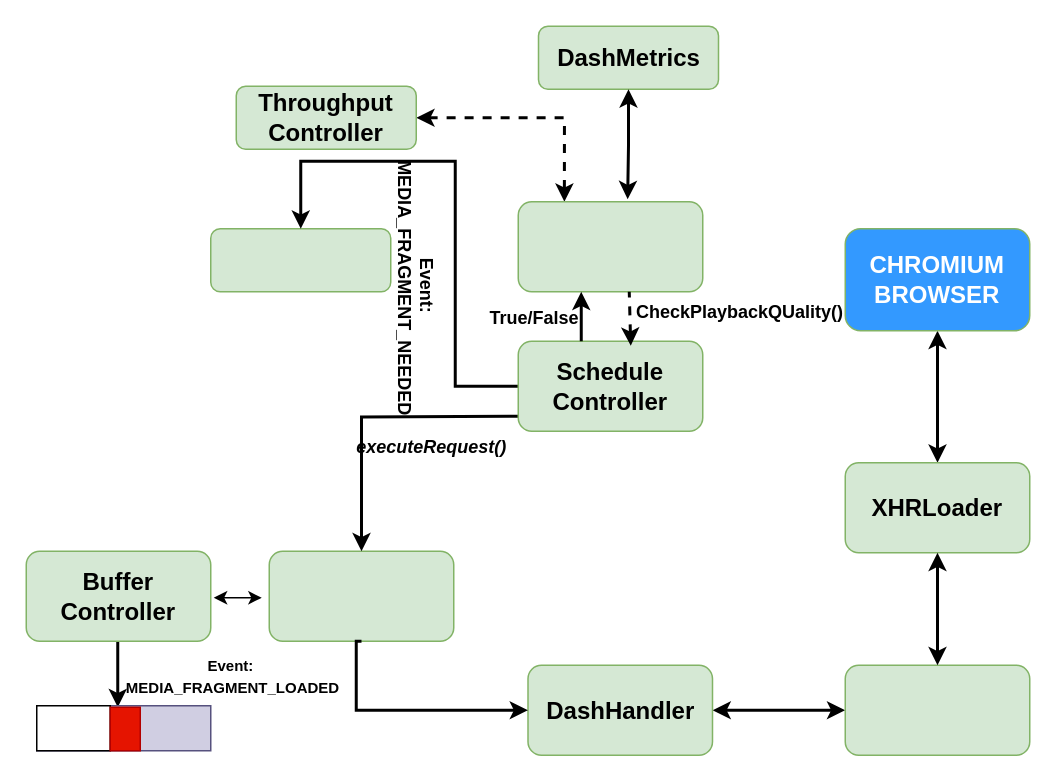
The diagram is 1056 pixels wide and 782 high, and some of its shapes have lost their labels. The shapes that lost their labels are listed below. From the top down, each one's centre as x and y in pixels, then its label:
point (300, 259): Stream Processor
point (610, 246): ABR Controller
point (361, 595): Fragment Model
point (937, 709): HTTPLoader
